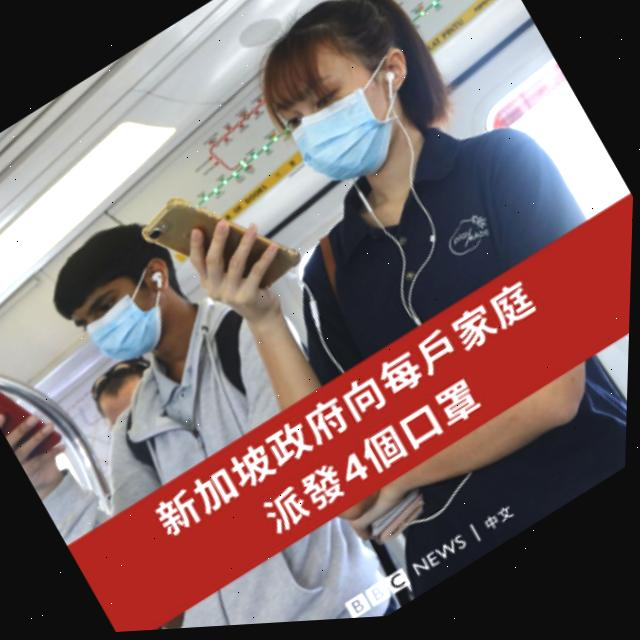Mask: (281, 54, 444, 207), (73, 258, 201, 381)
